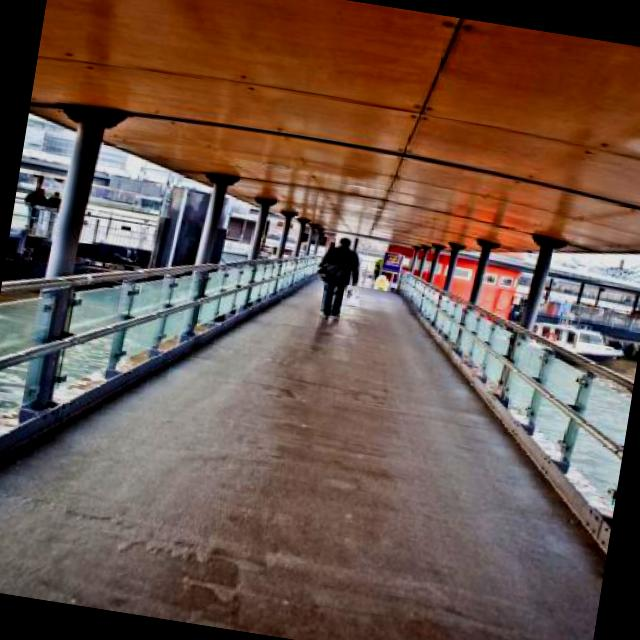Person: (316, 229, 386, 328)
